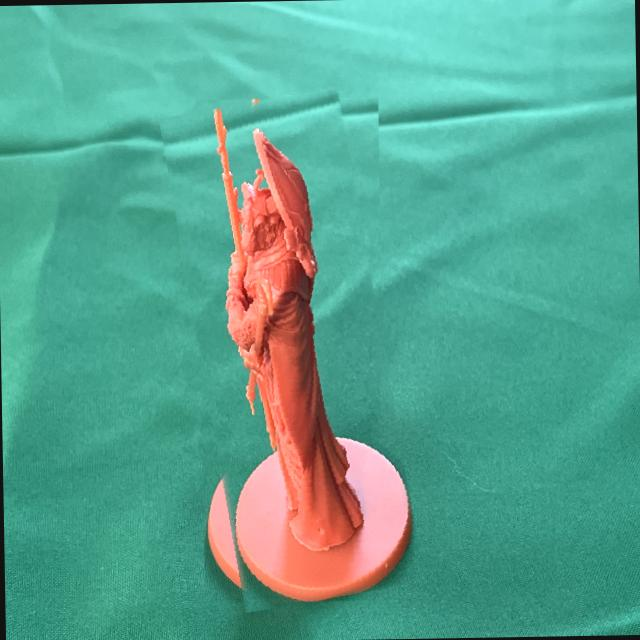amon: (177, 91, 406, 608)
